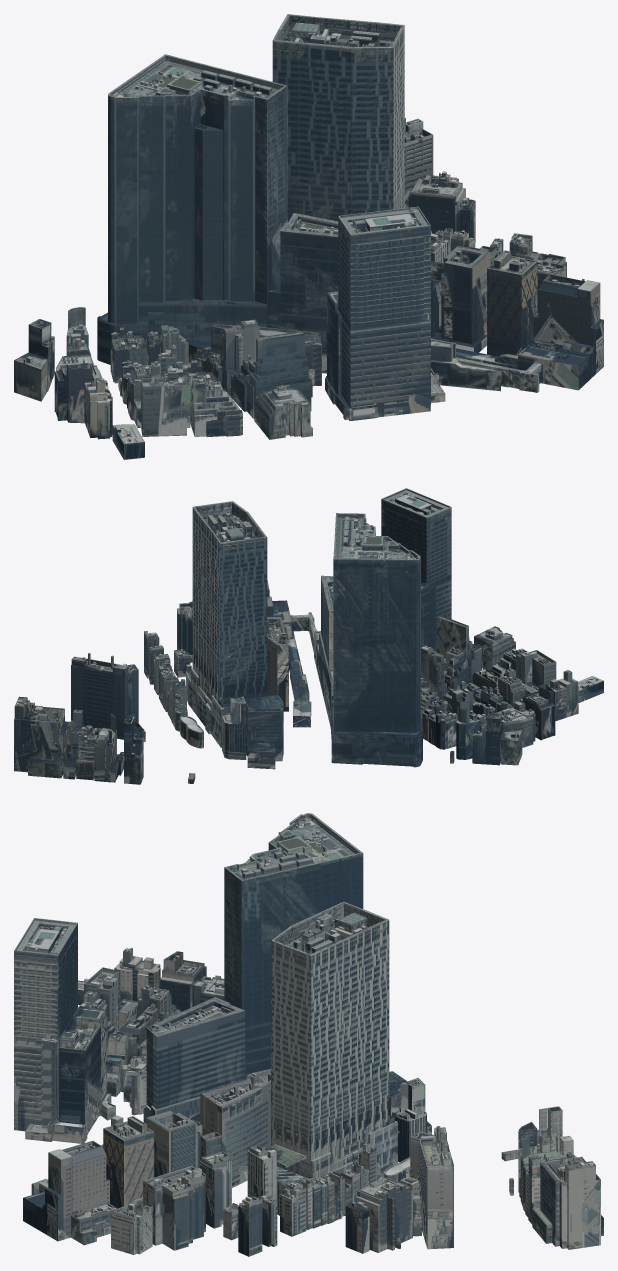
The model's file is building_0_0.glb.
3 views of the same model, one above another, from view 1: azimuth 30°, elevation 25°; view 2: azimuth 150°, elevation 25°; view 3: azimuth 270°, elevation 25° (orthographic). The views are drawn at different scales.
Bounding box in the file's own units: 368 × 186 × 381.
Materials: 4 (3 with a texture image).
